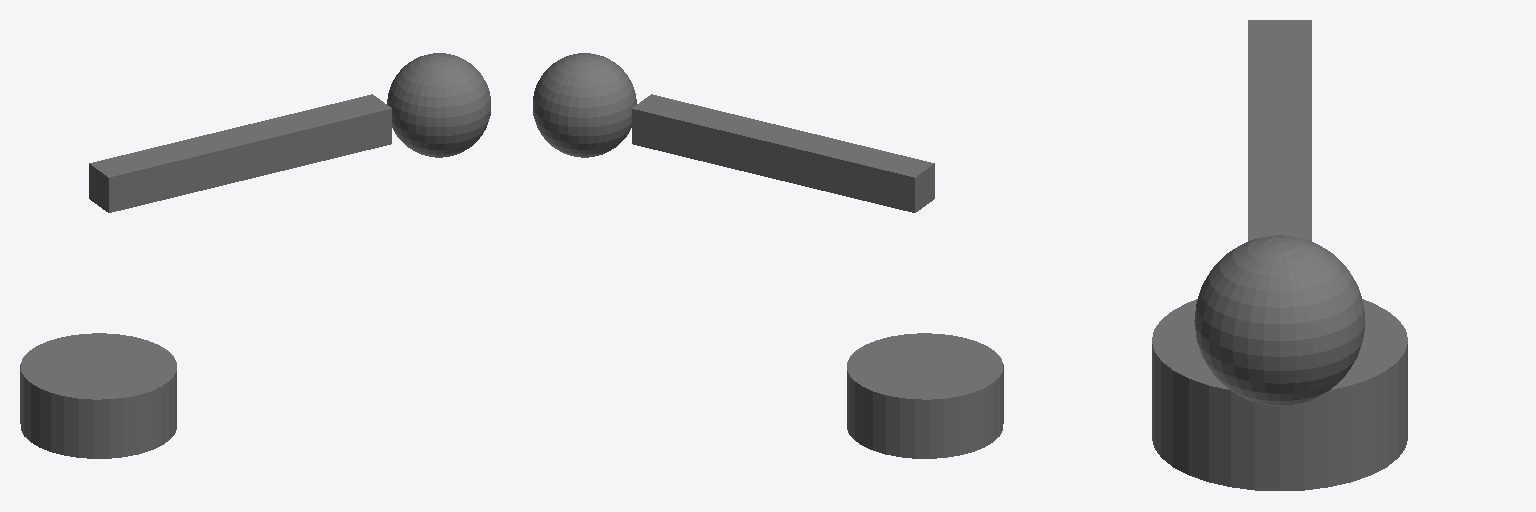
robot.urdf — visual_and_collision:
<?xml version="1.0"?>
<!-- A robot with both geometries on every link, which no other fixture has.

     Collision hulls are deliberately coarser than the visuals and sit inside
     them, the way a real description's do: a box standing in for a shaped
     casing. They also carry different origins, so a build that mixed the two
     lists up would put geometry somewhere provable rather than somewhere that
     merely looks wrong.

     base -(rev Z, +0.4z)- link_a -(rev Y, +0.5x)- link_b -->
<robot name="visual_and_collision">
  <material name="grey"><color rgba="0.5 0.5 0.5 1.0"/></material>

  <link name="base">
    <visual>
      <origin xyz="0 0 0.05" rpy="0 0 0"/>
      <geometry><cylinder radius="0.12" length="0.1"/></geometry>
      <material name="grey"/>
    </visual>
    <collision>
      <origin xyz="0 0 0.05" rpy="0 0 0"/>
      <geometry><box size="0.24 0.24 0.1"/></geometry>
    </collision>
  </link>

  <link name="link_a">
    <visual>
      <origin xyz="0.25 0 0" rpy="0 0 0"/>
      <geometry><box size="0.5 0.06 0.06"/></geometry>
      <material name="grey"/>
    </visual>
    <collision>
      <origin xyz="0.25 0 0.02" rpy="0 0 0"/>
      <geometry><box size="0.5 0.1 0.1"/></geometry>
    </collision>
  </link>

  <!-- Visual only: a link with no <collision> must not gain one, and must not
       stop the pass that loads them. -->
  <link name="link_b">
    <visual>
      <origin xyz="0.1 0 0" rpy="0 0 0"/>
      <geometry><sphere radius="0.08"/></geometry>
      <material name="grey"/>
    </visual>
  </link>

  <joint name="joint_a" type="revolute">
    <parent link="base"/><child link="link_a"/>
    <origin xyz="0 0 0.4" rpy="0 0 0"/>
    <axis xyz="0 0 1"/>
    <limit lower="-1.5" upper="1.5" effort="10" velocity="1"/>
  </joint>

  <joint name="joint_b" type="revolute">
    <parent link="link_a"/><child link="link_b"/>
    <origin xyz="0.5 0 0" rpy="0 0 0"/>
    <axis xyz="0 1 0"/>
    <limit lower="-1.0" upper="1.0" effort="10" velocity="1"/>
  </joint>
</robot>

--- What the picture shows (computed from the rendered views, not written in the file) ---
Views: 3 orthographic renders of the robot side by side, from view 1: azimuth 30°, elevation 25°; view 2: azimuth 150°, elevation 25°; view 3: azimuth 270°, elevation 25°.
Model visual_and_collision with 3 links and 2 joints (2 revolute), rooted at base, posed every joint at zero.
Links seen in each view (by area): view 1: base, link_a, link_b; view 2: base, link_a, link_b; view 3: base, link_b, link_a.
Boxes of the visible links, x1=… form: base: x1=20, y1=333, x2=176, y2=458; link_a: x1=89, y1=94, x2=391, y2=212; link_b: x1=387, y1=53, x2=490, y2=157; base: x1=847, y1=333, x2=1003, y2=458; link_a: x1=632, y1=94, x2=934, y2=212; link_b: x1=533, y1=53, x2=636, y2=157; base: x1=1152, y1=299, x2=1407, y2=490; link_b: x1=1194, y1=235, x2=1365, y2=405; link_a: x1=1248, y1=20, x2=1311, y2=240.
Bounding box of the posed robot: 0.8 × 0.24 × 0.48 m (x, y, z).
Geometry: primitives only (box / cylinder / sphere), no mesh files.
